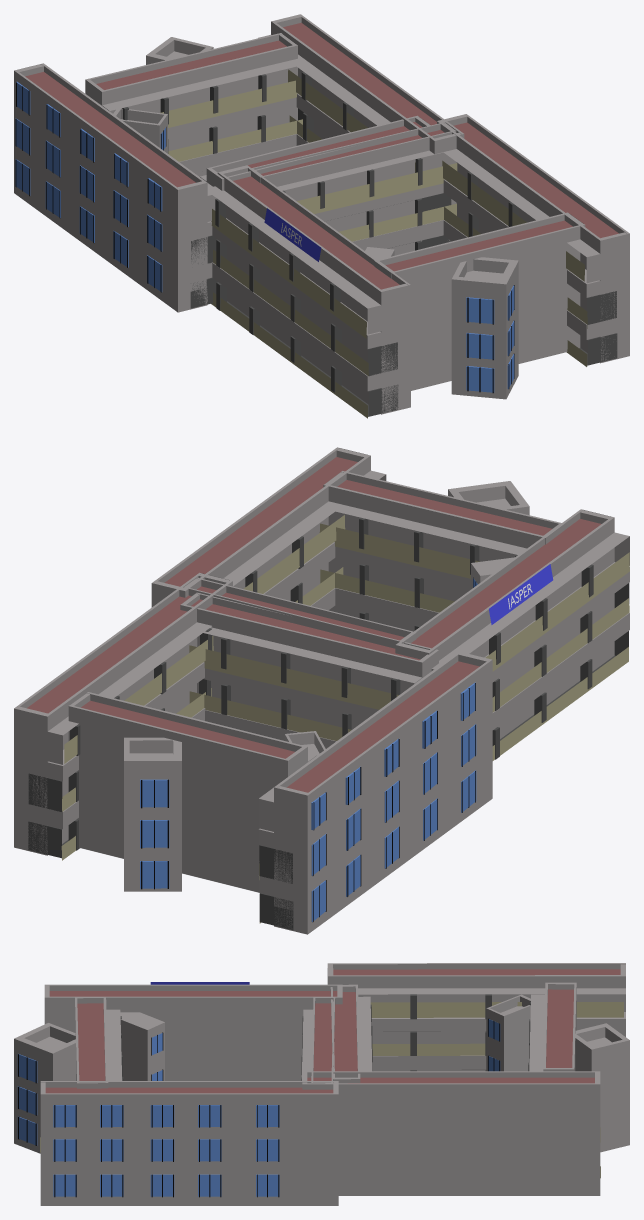
Rendered from jasper.glb.
3 views of the same model, one above another, from view 1: azimuth 30°, elevation 25°; view 2: azimuth 150°, elevation 25°; view 3: azimuth 270°, elevation 25° (orthographic). The views are drawn at different scales.
Parts seen in each view (by area): view 1: Cube.201, Cube.001, Cube.013, Cube.003, Cube.008, Cube.014, Cube.007, Cube.042, Cube.012, Cube, Cube.049, Plane (+3 smaller); view 2: Cube.001, Cube.201, Cube.003, Cube.007, Cube.012, Cube.008, Cube.013, Cube.049, Cube.014, Cube.042, Plane, Cube.050 (+2 smaller); view 3: Cube.007, Cube.013, Cube.001, Cube.201, Cube.049, Cube.003, Cube.008, Cube.042, Cube.012, Cube, Cube.009, Cube.014 (+18 smaller).
Boxes of the visible parts, x1,y1,x2,y2 form: Cube.201: (207,165,410,418); Cube.001: (14,63,217,312); Cube.013: (437,114,629,366); Cube.003: (85,33,304,176); Cube.008: (374,212,585,390); Cube.014: (249,122,457,255); Cube.007: (258,14,464,248); Cube.042: (451,257,518,399); Cube.012: (200,115,430,190); Cube: (113,108,167,153); Cube.049: (146,37,213,64); Plane: (264,208,321,261); Cube.001: (258,651,492,934); Cube.201: (395,509,629,760); Cube.003: (68,692,316,892); Cube.007: (14,572,232,860); Cube.012: (180,592,438,748); Cube.008: (319,471,564,631); Cube.013: (151,447,386,610); Cube.049: (124,737,181,891); Cube.014: (183,577,416,648); Cube.042: (448,481,529,515); Plane: (489,564,553,624); Cube.050: (140,779,169,808); Cube.007: (302,1071,600,1195); Cube.013: (40,1081,338,1205); Cube.001: (327,963,625,1071); Cube.201: (44,984,342,1080); Cube.049: (575,1023,629,1152); Cube.003: (528,982,576,1071); Cube.008: (75,996,123,1088); Cube.042: (14,1023,75,1153); Cube.012: (330,984,372,1083); Cube: (486,994,530,1071); Cube.009: (120,1012,164,1080); Cube.014: (301,996,335,1083).
Bounding box in the file's own units: 24.46 × 9.99 × 48.05.
